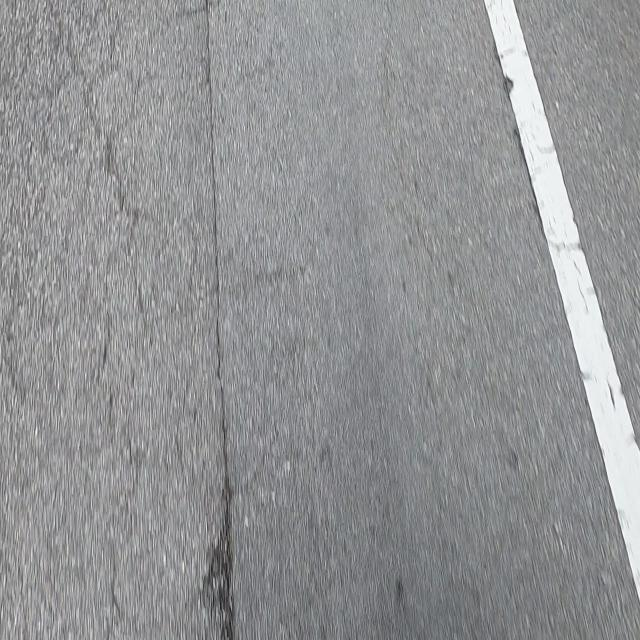Retak-Memanjang: (202, 0, 237, 640)
